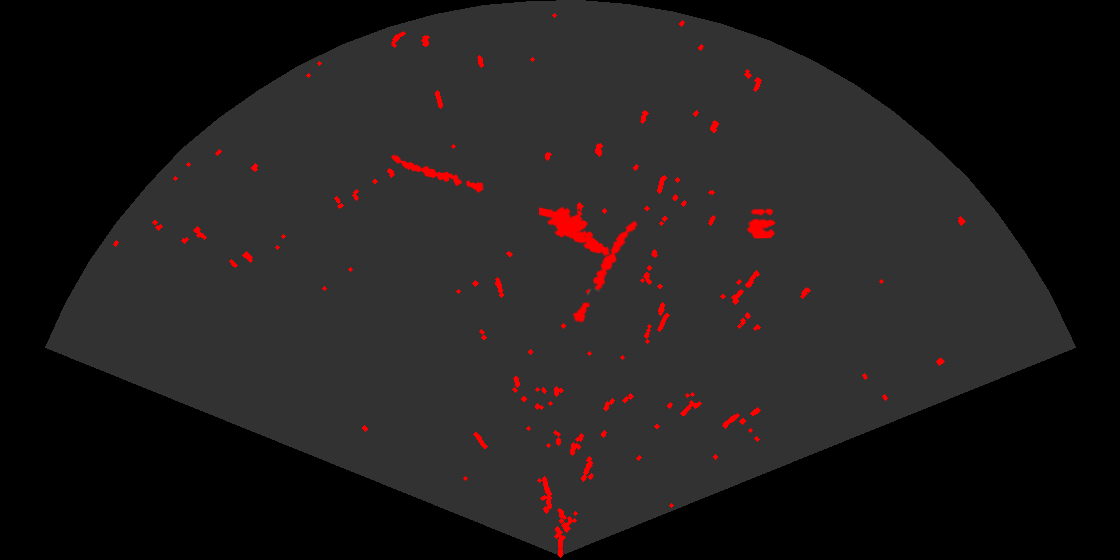ball: (745, 207, 778, 240)
chain: (571, 219, 639, 324), (390, 153, 486, 194)
frogman: (539, 205, 612, 258)
